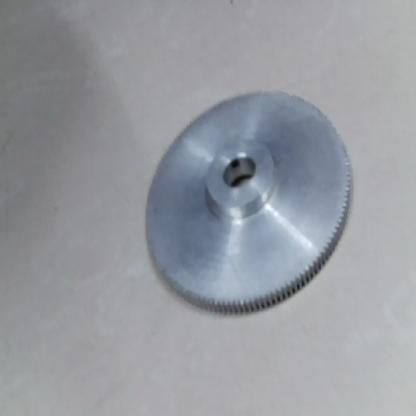FOD: (132, 81, 355, 328)
